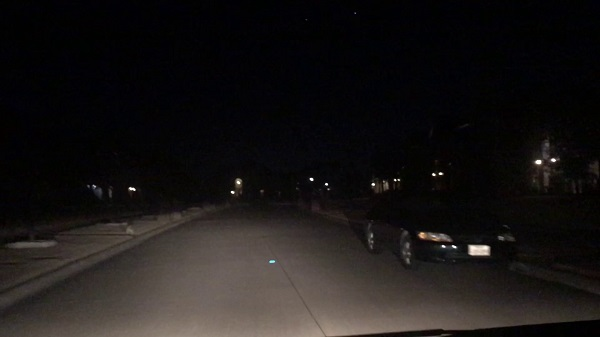car: (359, 195, 529, 273)
